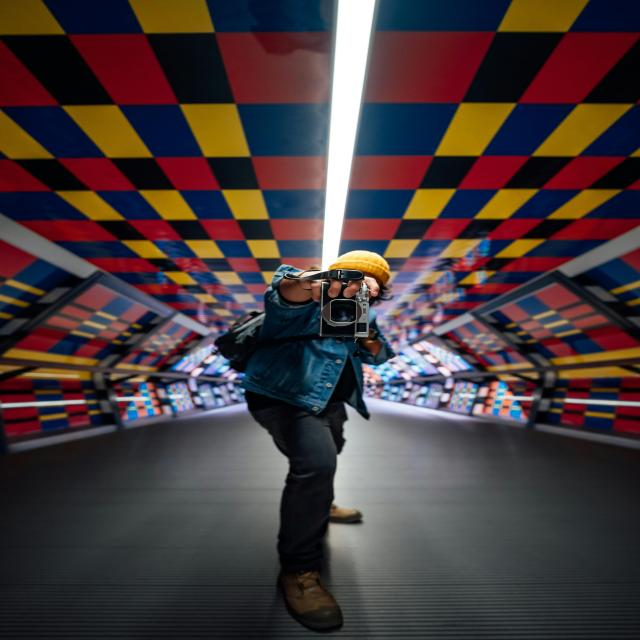stand: (224, 233, 390, 629)
